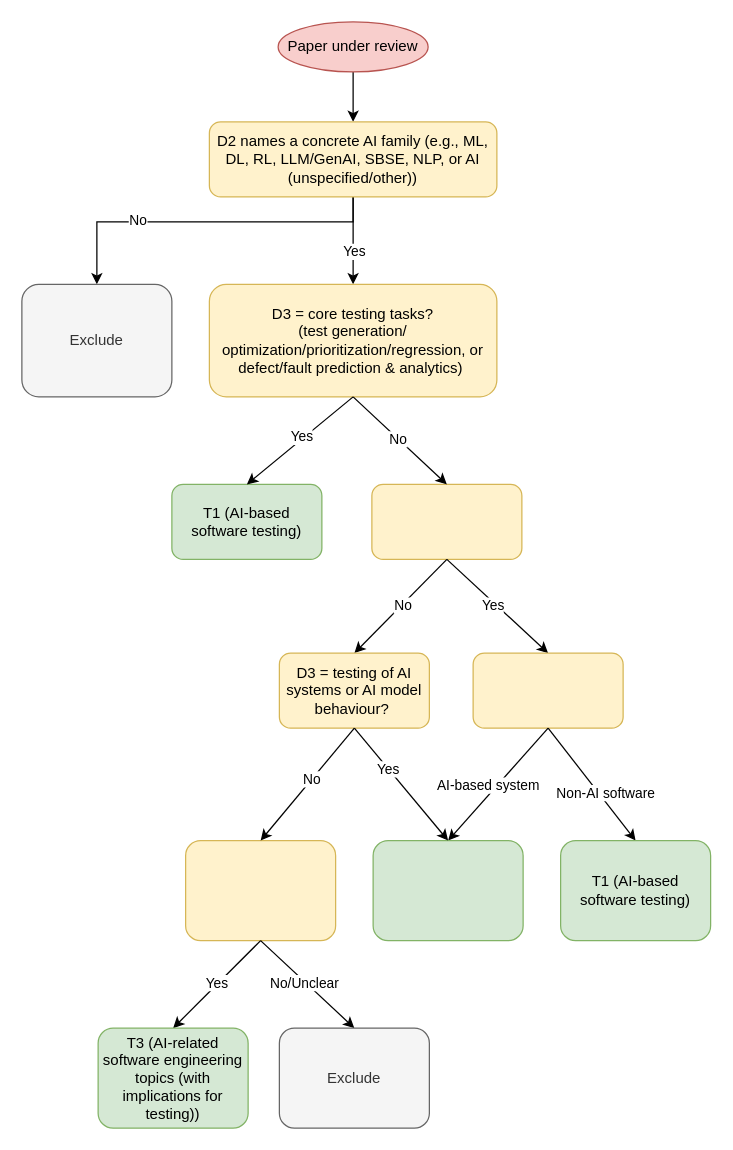
This 733x1150 diagram has some shape labels left out. The centre of each missing label's shape, as x and y in pixels:
D3 = testing adjacent? (requirements, MLOps/DevOps QA, other): point (260, 890)
Does D3 mention oracle/metamorphic/ datamorphic?: point (446, 521)
T2 (Testing/validation of AI systems): point (447, 890)
What does it target? Use D4 if needed. AI-based system vs non-AI software: point (547, 690)
